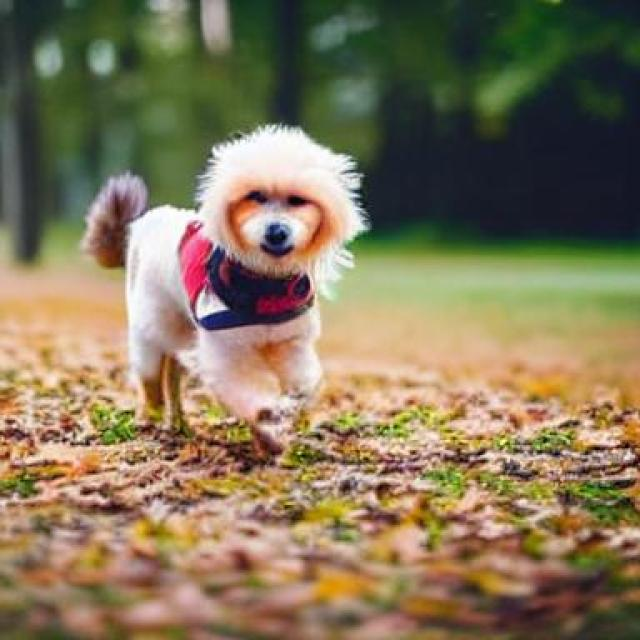Dog: (78, 126, 371, 454)
